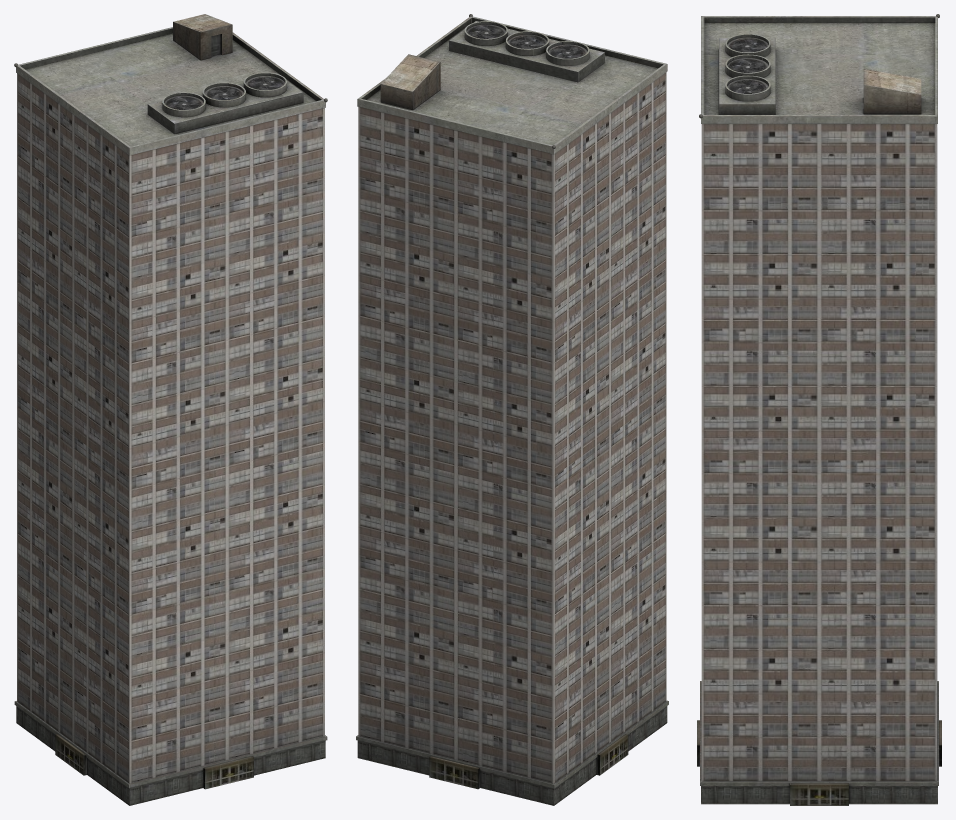
File: Rakennus2.fbx
3 views of the same model, side by side, from view 1: azimuth 30°, elevation 25°; view 2: azimuth 150°, elevation 25°; view 3: azimuth 270°, elevation 25° (orthographic). The views are drawn at different scales.
Visible parts, largest first — view 1: Rakennus_2; view 2: Rakennus_2; view 3: Rakennus_2.
Boxes of the visible parts, x1,y1,x2,y2 form: Rakennus_2: [14, 14, 327, 805]; Rakennus_2: [356, 14, 668, 805]; Rakennus_2: [697, 14, 941, 805].
Size of the model in its own units: 3730 by 11964 by 3730.
